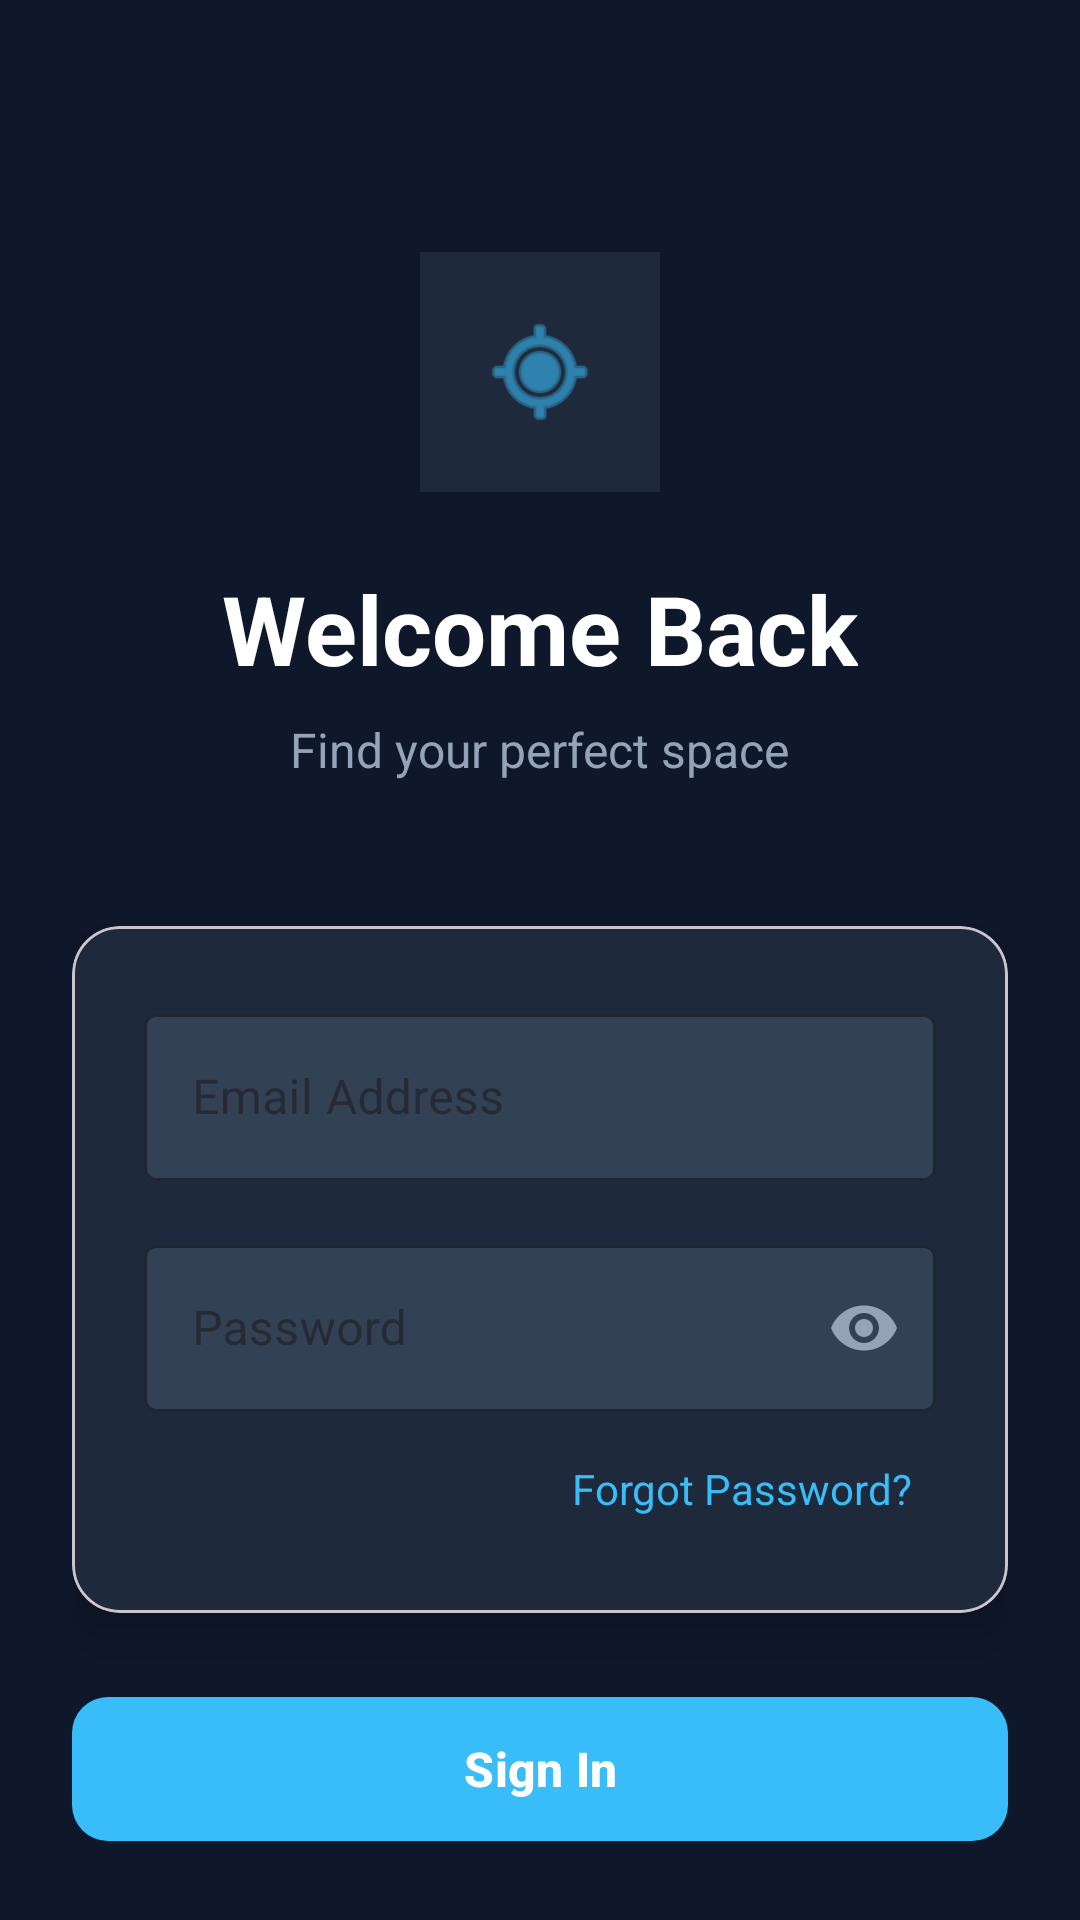

Icon bounding boxes for this 1080px x 1920px phone screenshot, format {"left": x1, "top": y1, "right": x2, "bottom": y2}:
mylocation: {"left": 491, "top": 323, "right": 589, "bottom": 421}
